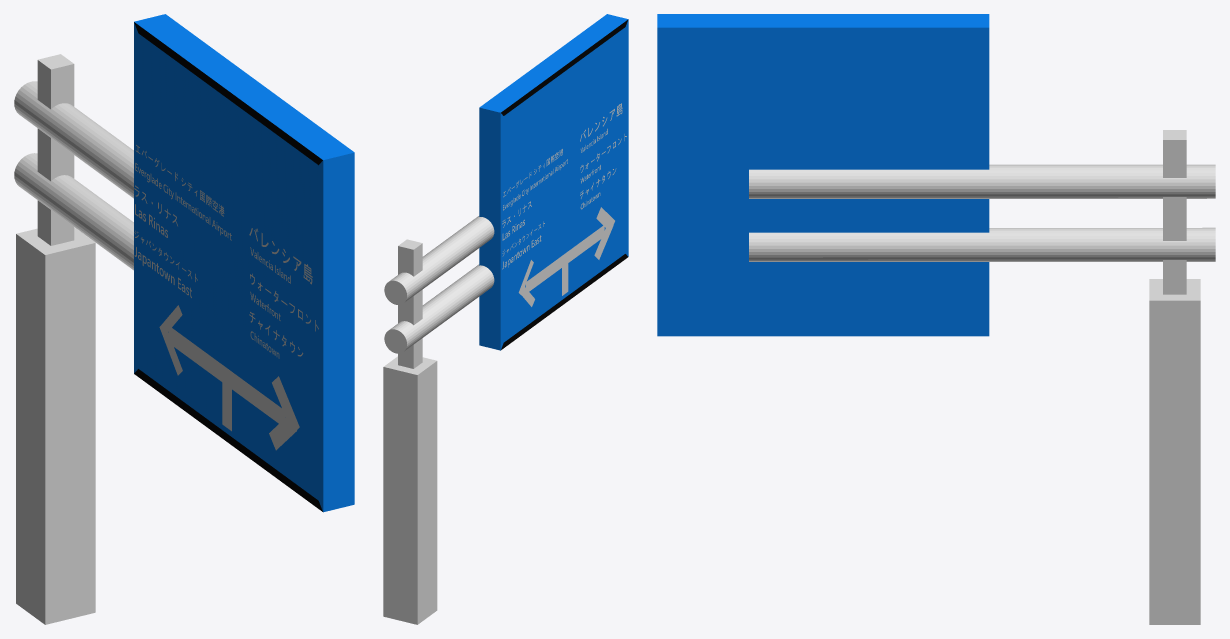
The model's file is japantown_sign_2.fbx.
3 views of the same model, side by side, from view 1: azimuth 30°, elevation 25°; view 2: azimuth 150°, elevation 25°; view 3: azimuth 270°, elevation 25° (orthographic). The views are drawn at different scales.
Parts seen in each view (by area): view 1: Cube.003, Cube, Cylinder, Cylinder.001, Plane.001, Plane.006, Plane, Plane.005, Text.004; view 2: Cube.003, Cube, Cylinder.001, Cylinder, Plane.006, Plane.001; view 3: Cube.003, Cube, Cylinder, Cylinder.001.
Part boxes in pixels (<box>): Cube.003: <box>134,14,354,512</box>; Cube: <box>16,54,95,624</box>; Cylinder: <box>14,81,133,198</box>; Cylinder.001: <box>14,153,133,270</box>; Plane.001: <box>168,326,222,381</box>; Plane.006: <box>231,371,285,423</box>; Plane: <box>222,365,231,431</box>; Plane.005: <box>272,376,299,433</box>; Text.004: <box>135,163,231,240</box>; Cube.003: <box>479,14,628,350</box>; Cube: <box>383,239,437,624</box>; Cylinder.001: <box>384,264,494,353</box>; Cylinder: <box>384,216,494,304</box>; Plane.006: <box>567,225,604,263</box>; Plane.001: <box>525,256,561,291</box>; Cube.003: <box>657,14,989,336</box>; Cube: <box>1149,130,1200,624</box>; Cylinder: <box>749,164,1215,198</box>; Cylinder.001: <box>749,227,1215,261</box>.
Bounding box in the file's own units: 6.54 × 76.11 × 65.5.
